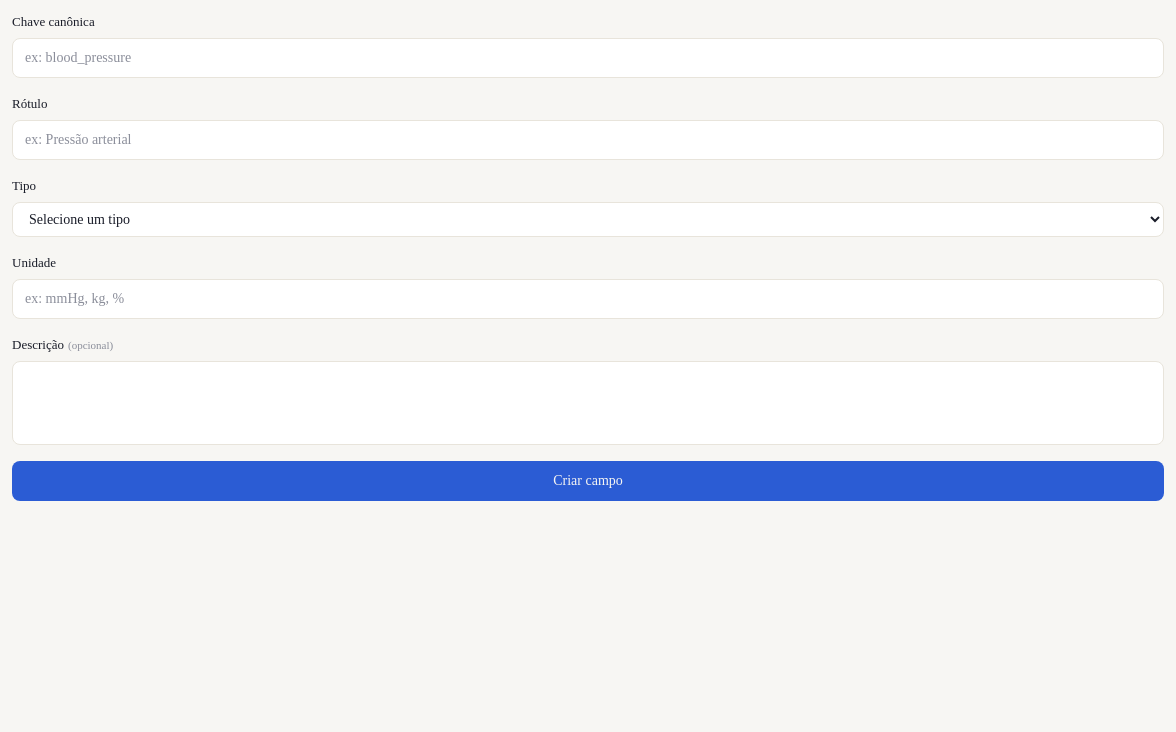
CanonicalFieldForm (integration) — create mode › shows validation error when label is too short
Type "weight" into the field with test id "canonical-field-form-canonical-key" at (588,58), box [12,38,1164,78]
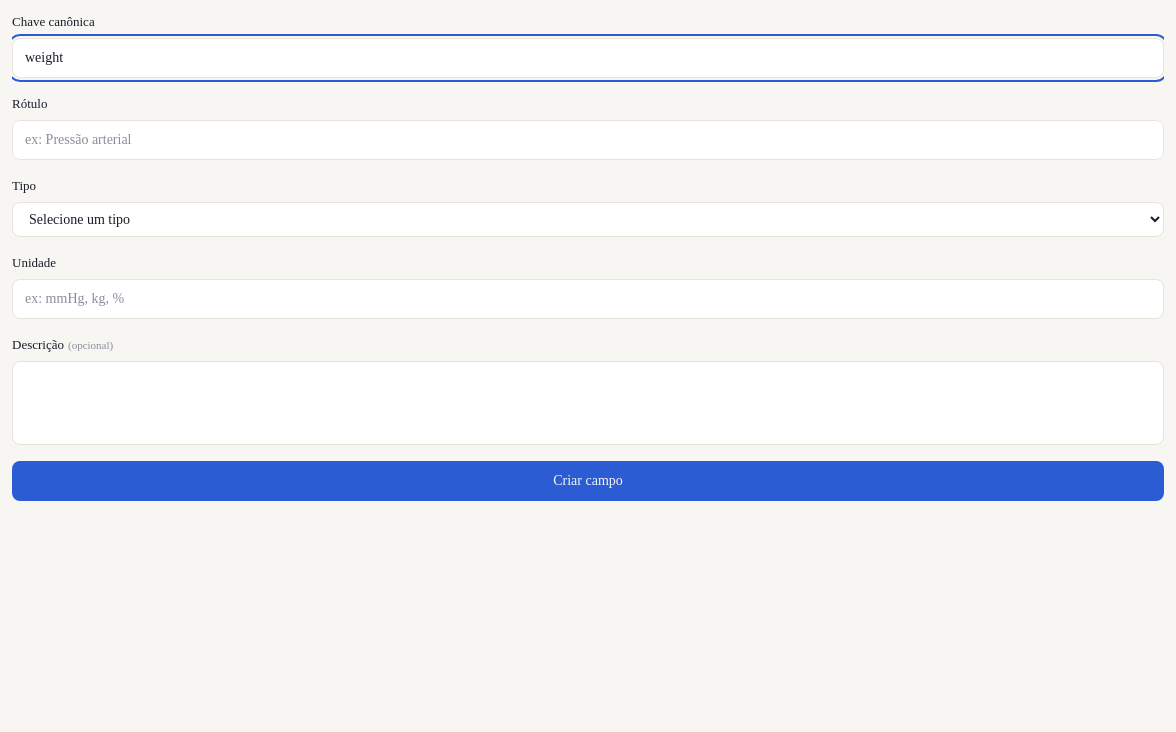
Type "P" into the field with test id "canonical-field-form-label" at (588,140), box [12,120,1164,160]
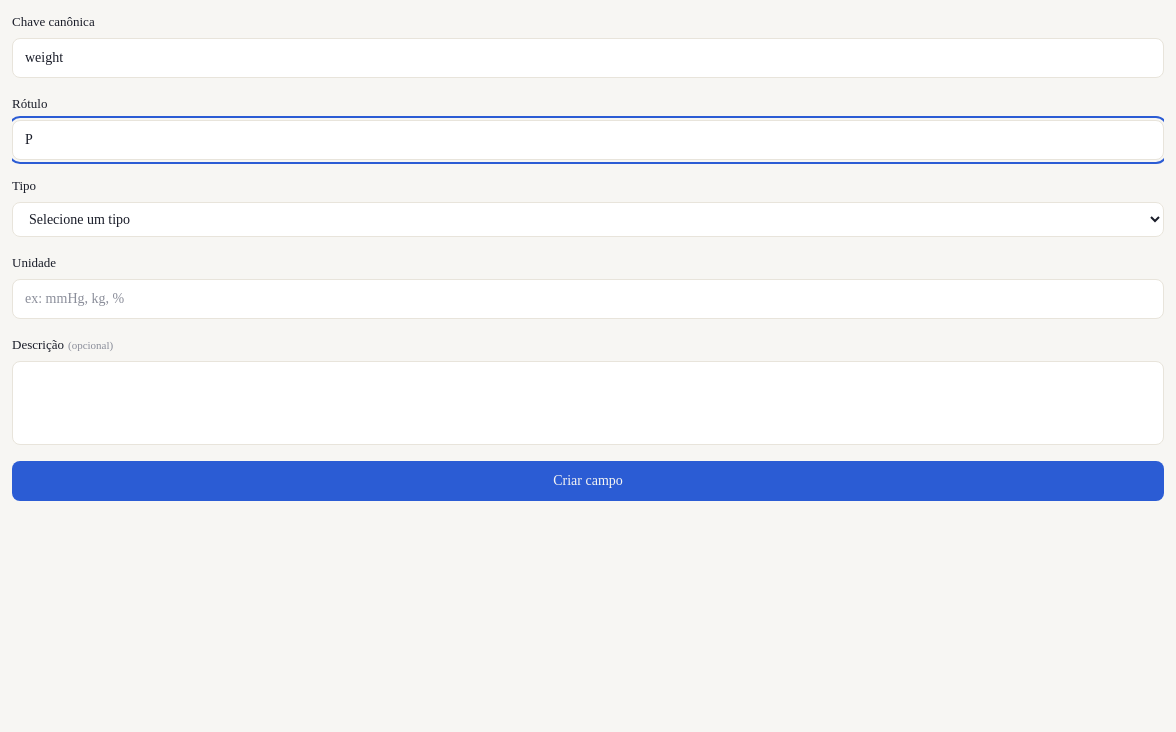
Select "Número" in the dropdown with test id "canonical-field-form-type" at (588,220), box [12,202,1164,237]
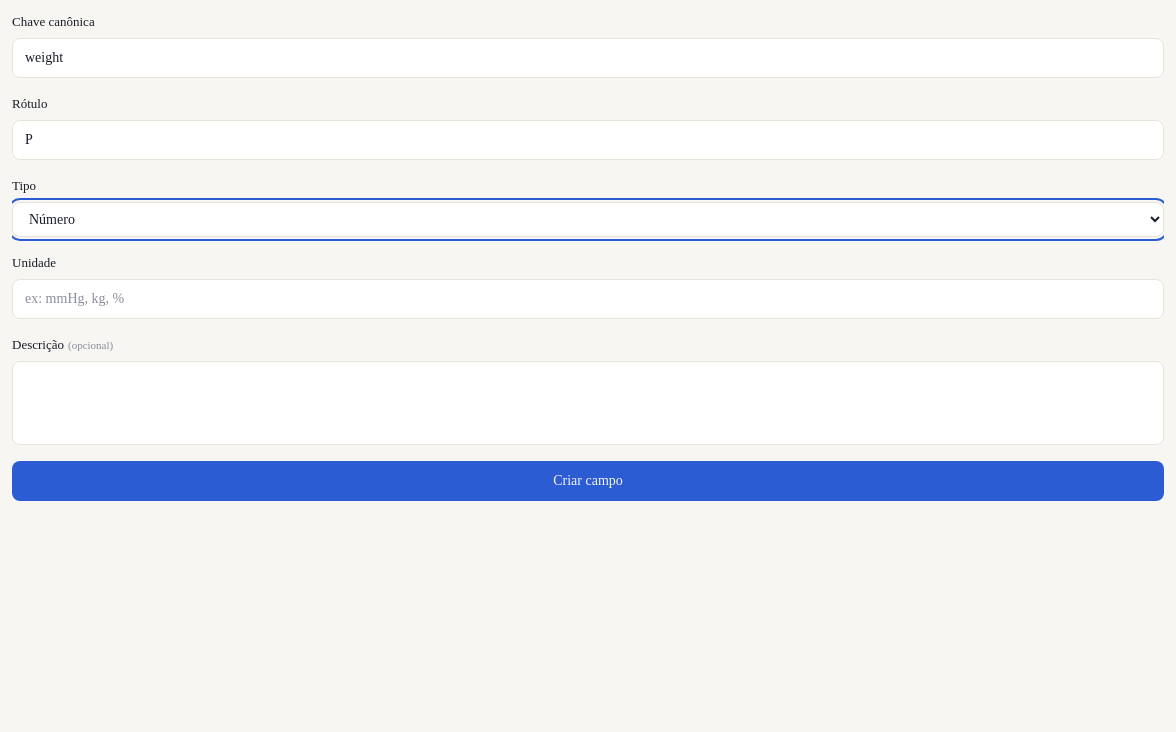
Click the button with test id "canonical-field-form-submit" at (588,481), box [12,461,1164,501]
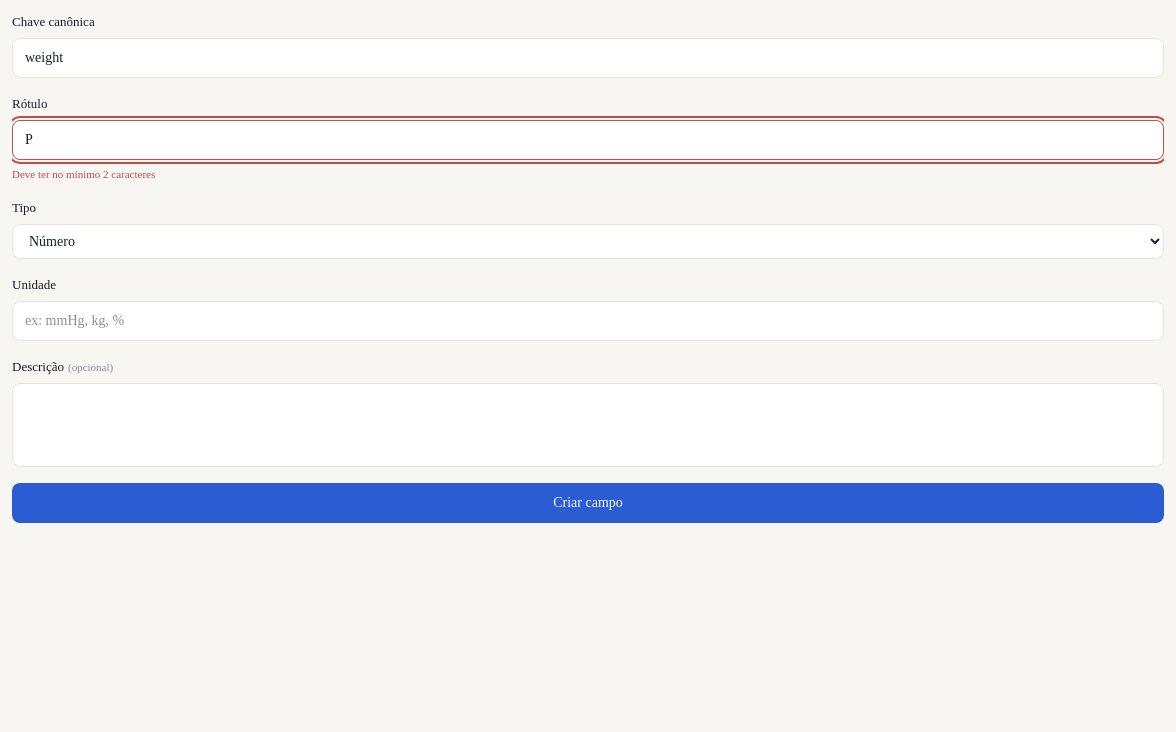
Now the text "Deve ter no mínimo 2 caracteres" is shown, box [12,168,155,180]
